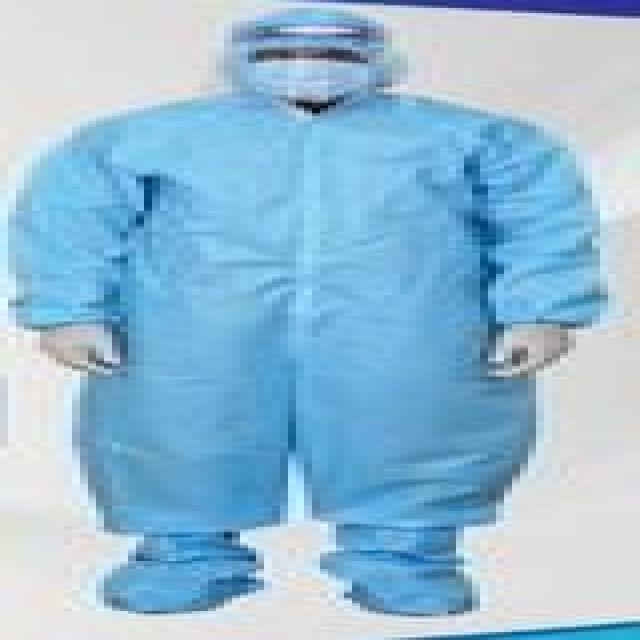Coverall: (0, 8, 616, 619)
Gloves: (24, 322, 144, 380), (472, 319, 568, 379)
Mask: (232, 56, 376, 98)
